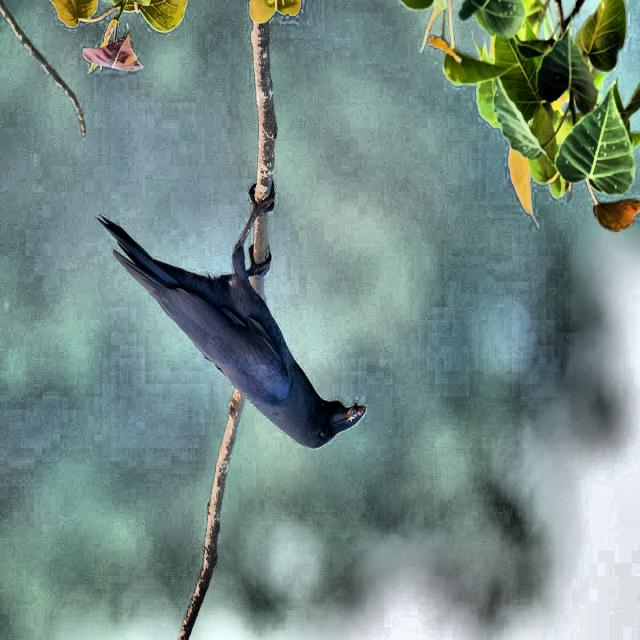crow: (92, 154, 384, 474)
